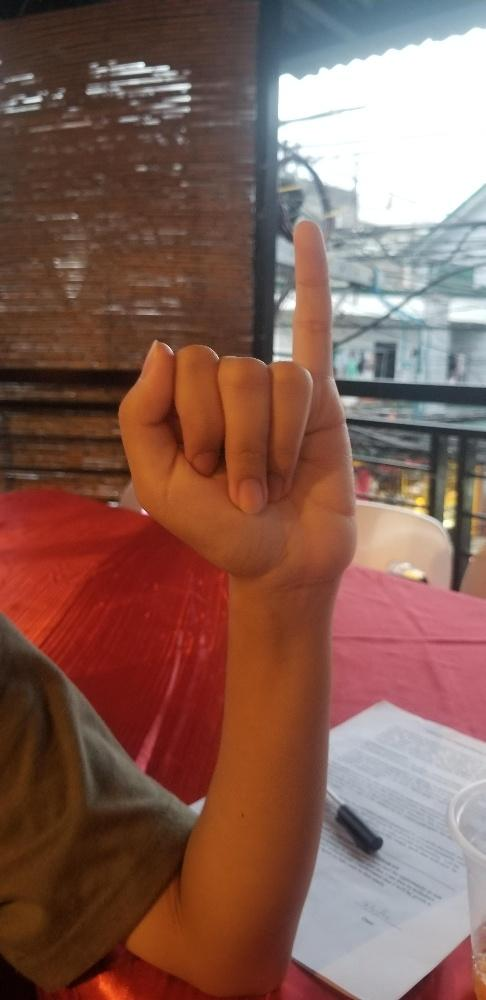i: (115, 218, 356, 570)
